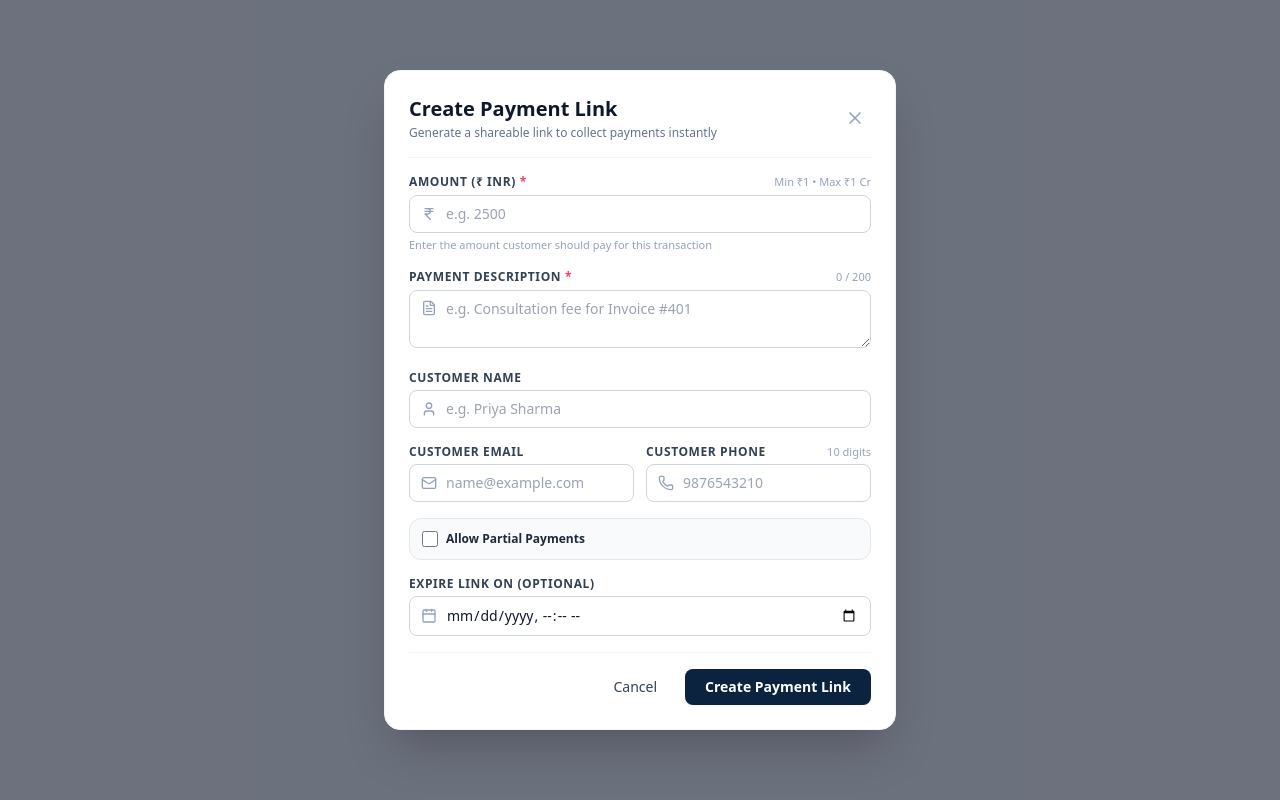
CreateLinkModal Component - Intensive Form UX & Restrictions Testing › should display error summary alert banner and inline field errors on empty submit attempt
Click the button "Create Payment Link": (778, 687) [685,669,871,705]
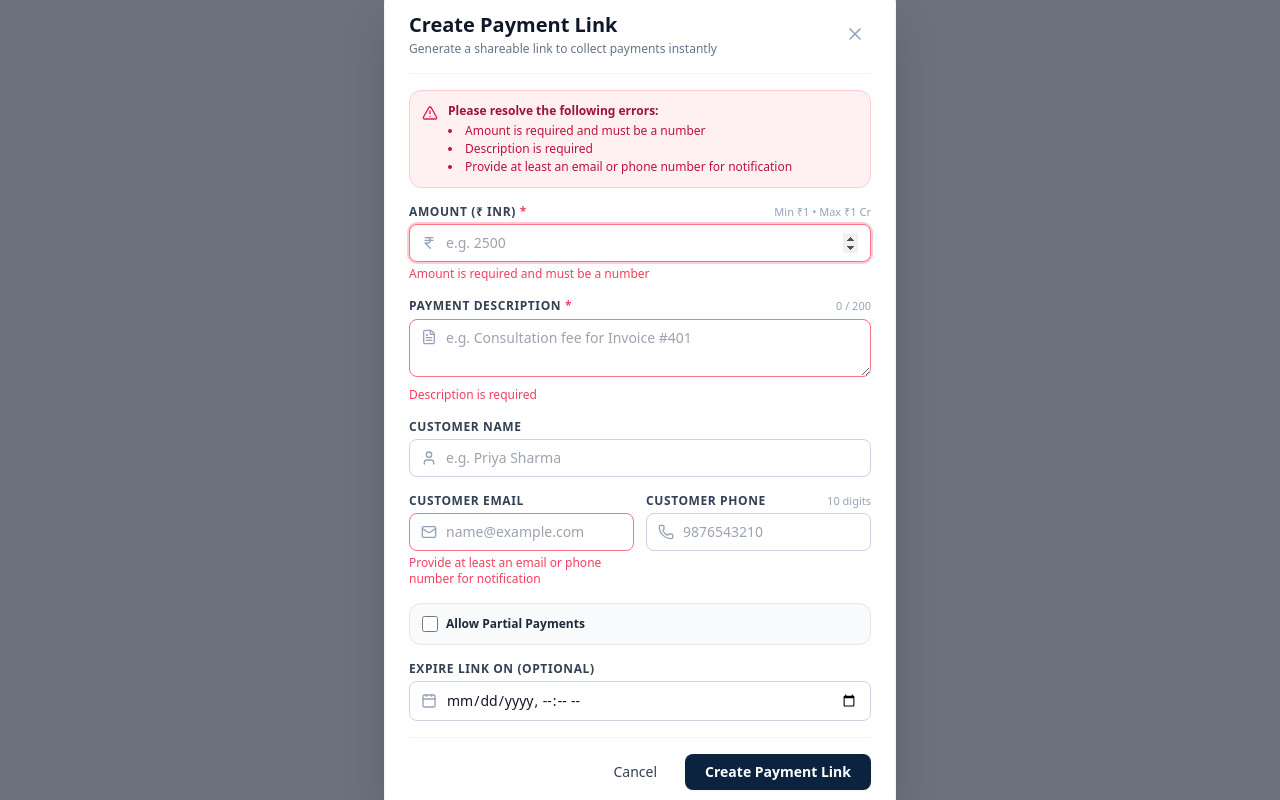
Expected: the message is shown, [409,90,871,188]
Expected: the text "Please resolve the following errors:" is shown, [448,102,658,118]
Expected: the number of list items "Amount is required and must be a number" is 2, [465,122,706,138]; [409,265,650,282]
